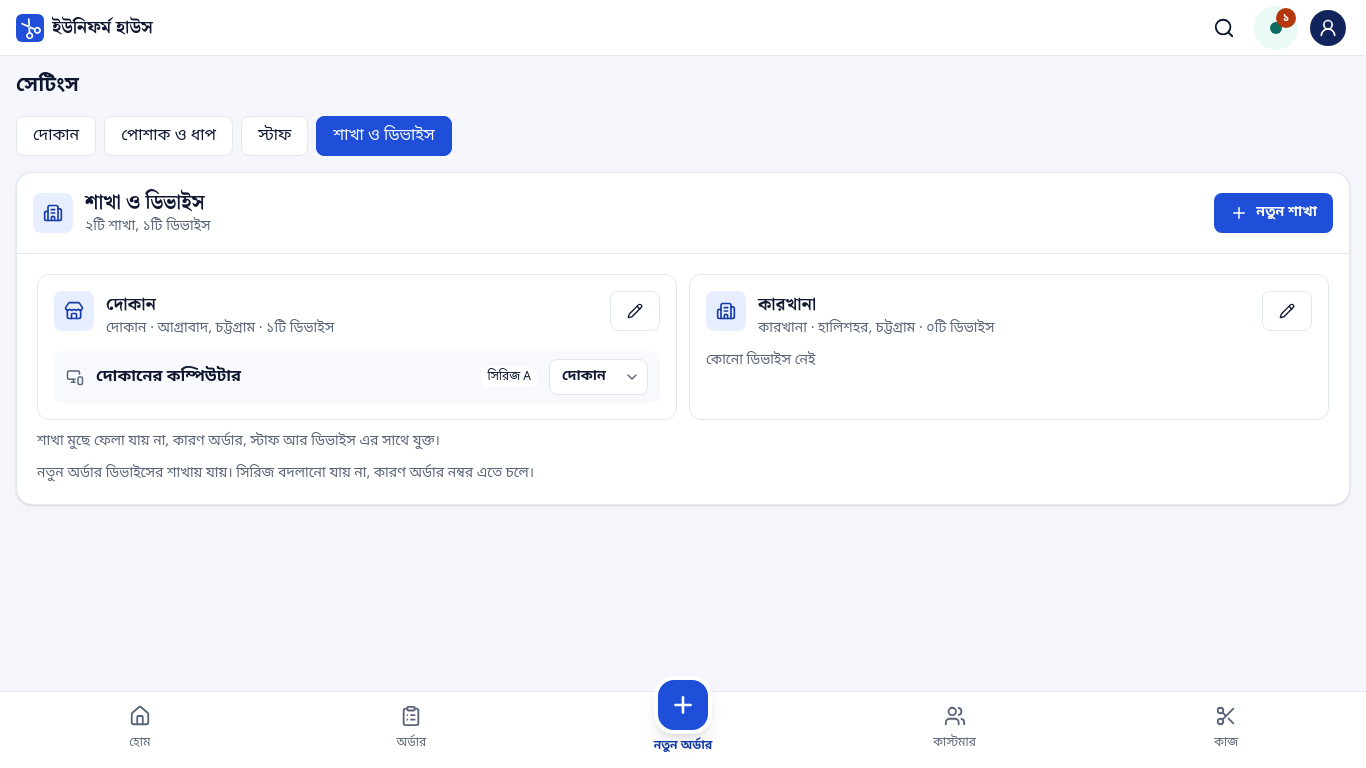
Scenario: Branch settings on a phone › moves a device to another branch at once
The width and height of the screenshot is (1366, 768).
Select "কারখানা" in the dropdown named "শাখা: দোকানের কম্পিউটার": coordinates (598, 377) top-left (549, 359), bottom-right (648, 395)
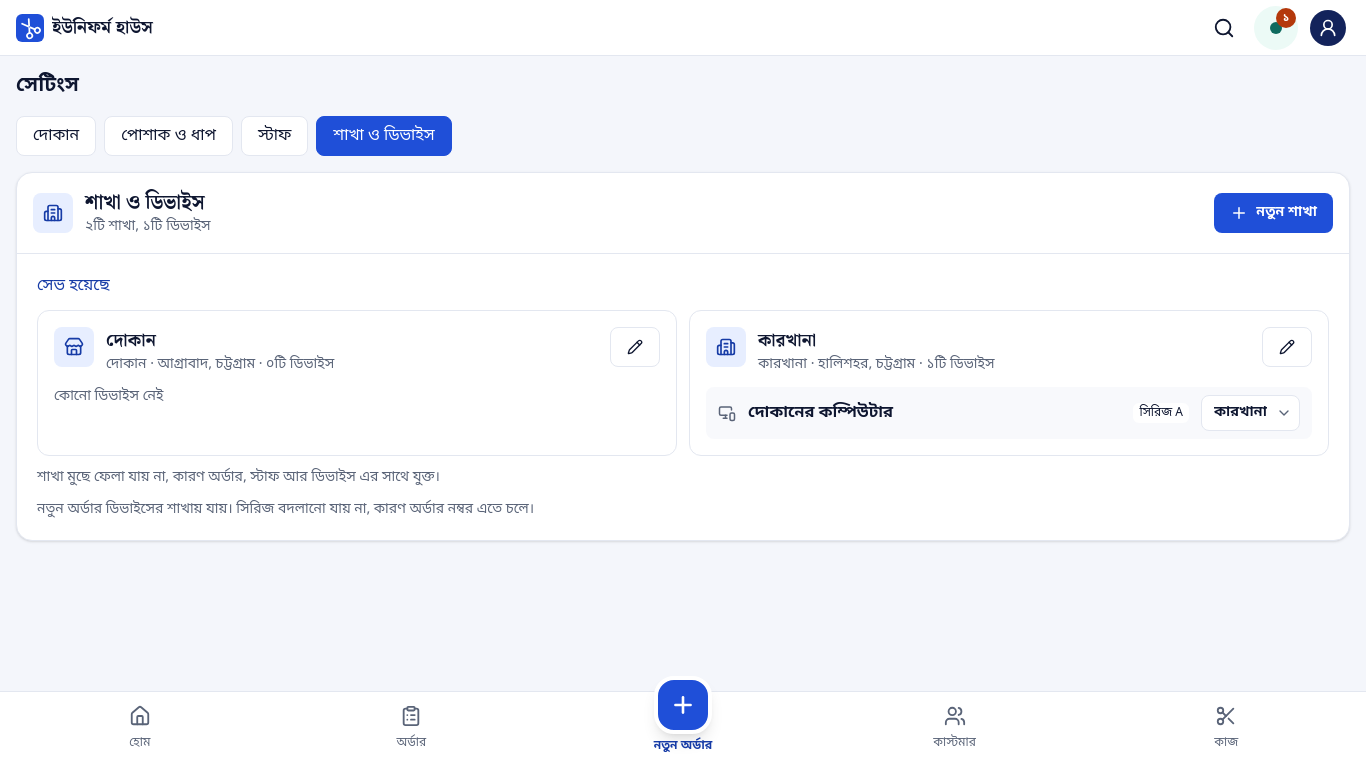
Expected: the text "সেভ হয়েছে" is shown, top-left (37, 275), bottom-right (110, 297)
